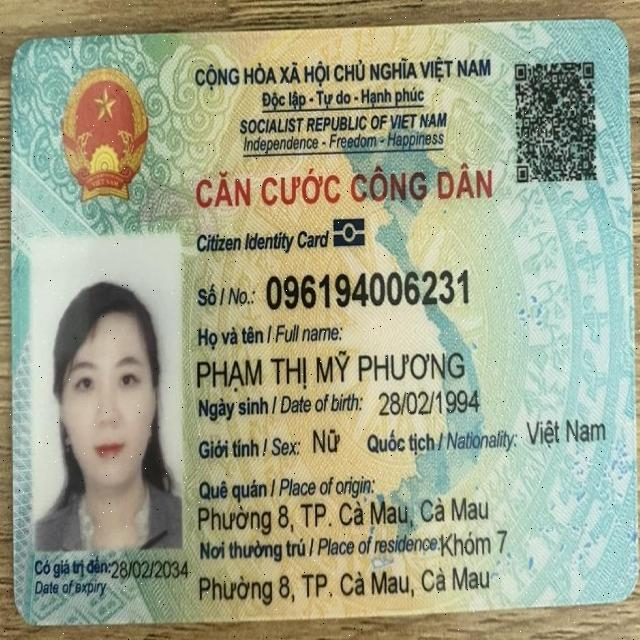current_place: (193, 564, 491, 597), (438, 527, 511, 559)
dob: (370, 382, 478, 419)
expire_date: (109, 556, 188, 580)
gender: (307, 425, 353, 459)
id: (261, 263, 477, 317)
name: (187, 351, 470, 392)
nationality: (522, 411, 608, 454)
origin_place: (192, 494, 496, 533)
qr: (510, 55, 600, 188)
